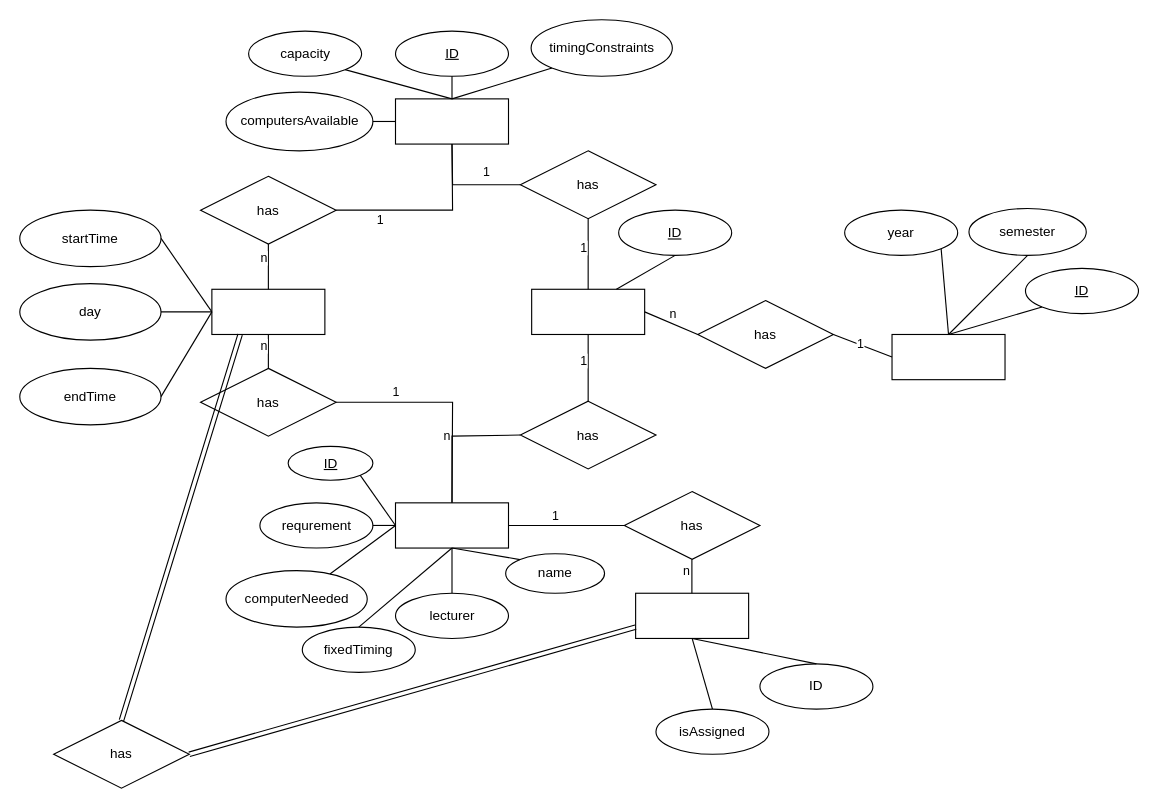
This 1158x808 diagram has some shape labels left out. Each missing label, with the centre of its shape:
"Course" belongs at point (451, 525).
"courseSession" belongs at point (691, 615).
"Room" belongs at point (451, 121).
"RoomTable" belongs at point (588, 311).
"TimeTable" belongs at point (948, 356).
"Timing" belongs at point (268, 311).
